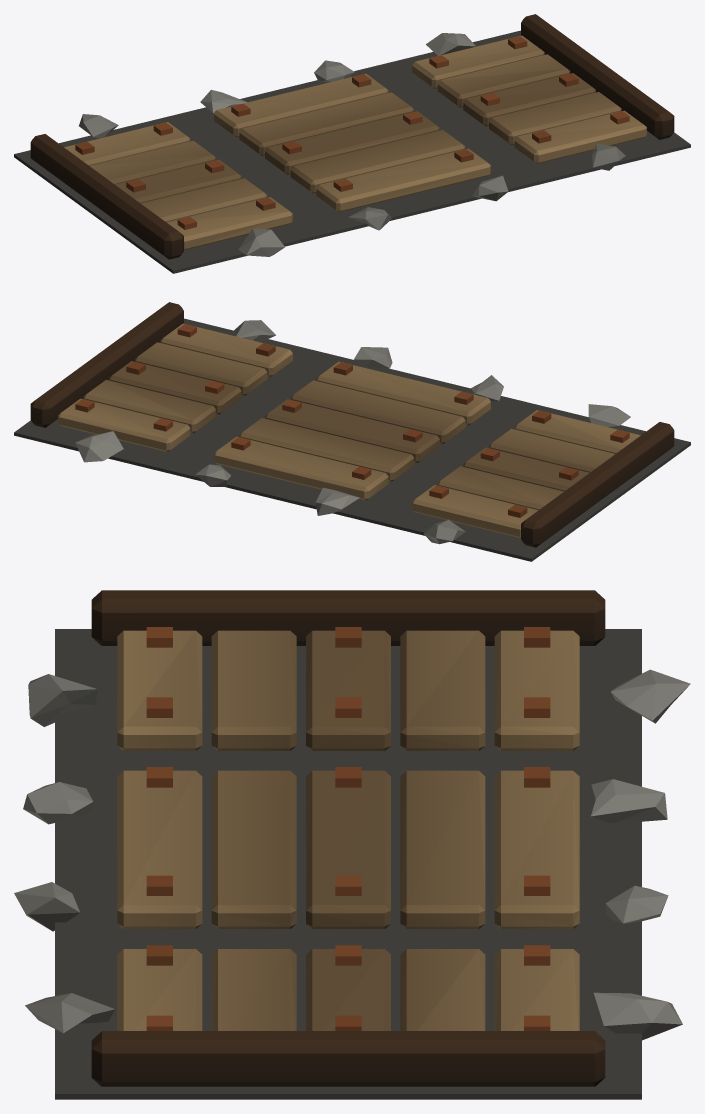
The model's file is barrow-crossing.glb.
3 views of the same model, one above another, from view 1: azimuth 30°, elevation 25°; view 2: azimuth 150°, elevation 25°; view 3: azimuth 270°, elevation 25° (orthographic). The views are drawn at different scales.
Parts seen in each view (by area): view 1: barrow_crossing; view 2: barrow_crossing; view 3: barrow_crossing.
Part boxes in pixels (left/top/right/bottom): barrow_crossing: left=14, top=14, right=690, bottom=273; barrow_crossing: left=14, top=302, right=690, bottom=561; barrow_crossing: left=14, top=590, right=690, bottom=1099.
Size of the model in its own units: 2.1 by 0.1251 by 1.29.
